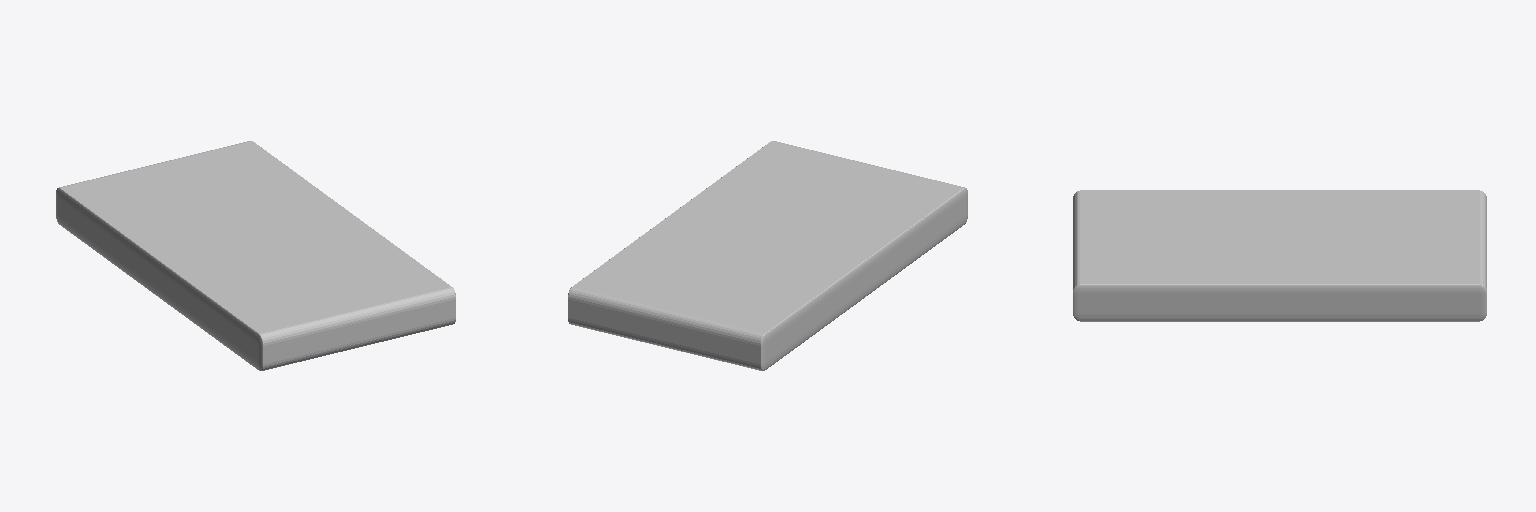
The model's file is phone.obj.
3 renders of one model, left to right at view 1: azimuth 30°, elevation 25°; view 2: azimuth 150°, elevation 25°; view 3: azimuth 270°, elevation 25°, orthographic.
Visible parts, largest first — view 1: _1, default, _2; view 2: _1, default, _2; view 3: _1, default, _2.
Boxes of the visible parts, box(x1,y1,x2,y2) form: _1: box(61, 141, 450, 333); default: box(56, 141, 455, 370); _2: box(56, 188, 455, 370); _1: box(573, 141, 962, 333); default: box(568, 141, 967, 370); _2: box(568, 188, 967, 370); _1: box(1080, 190, 1479, 283); default: box(1073, 191, 1486, 321); _2: box(1073, 285, 1486, 320).
Bounding box in the file's own units: 1.9 × 0.3441 × 3.48.